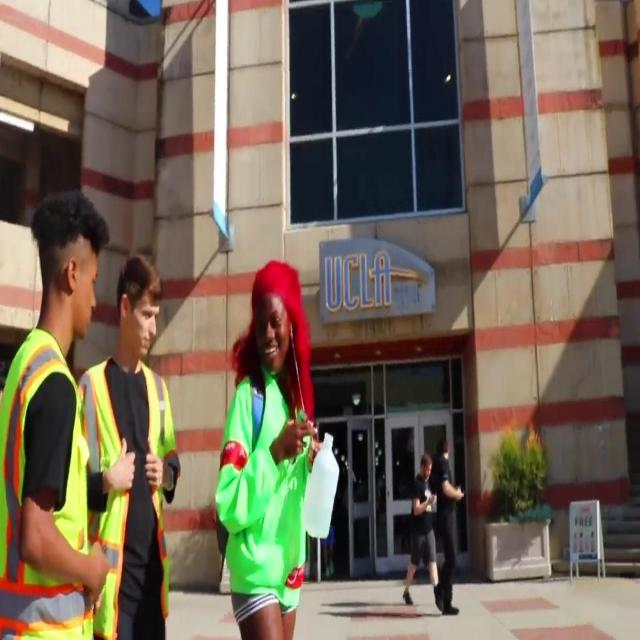vest: (0, 325, 94, 639), (78, 353, 176, 636)
